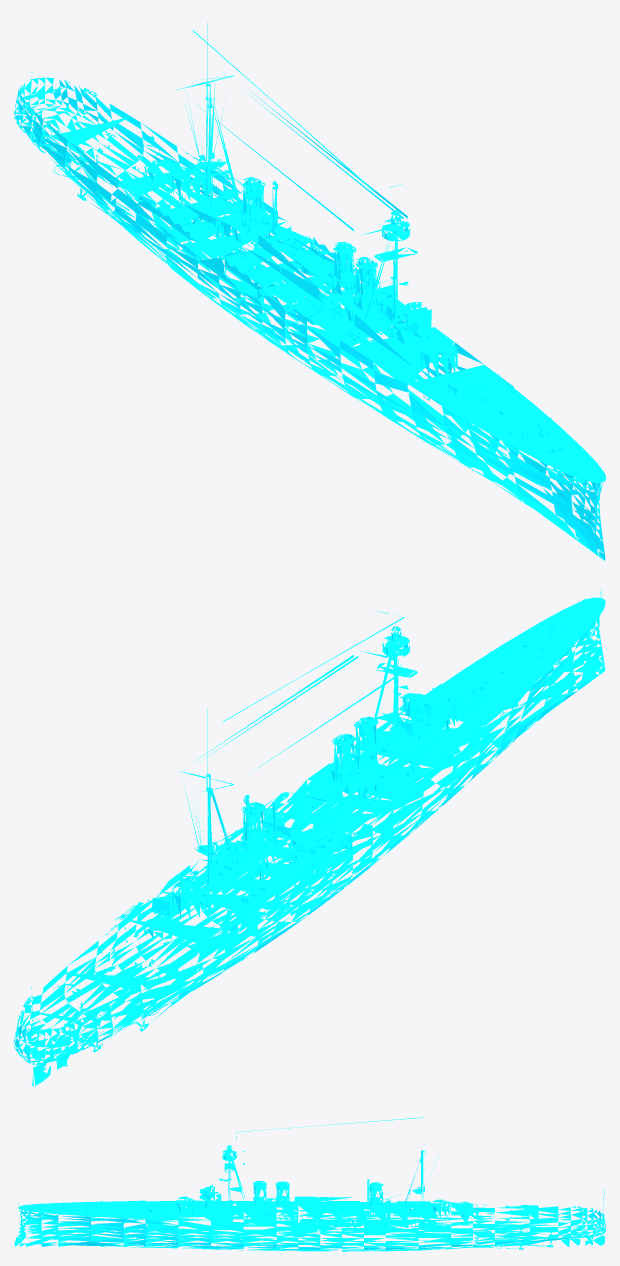
The model's file is Genova.glb.
3 renders of one model, top to bottom at view 1: azimuth 30°, elevation 25°; view 2: azimuth 150°, elevation 25°; view 3: azimuth 270°, elevation 25°, orthographic. The views are drawn at different scales.
Size of the model in its own units: 1.33 by 3.18 by 12.96.
